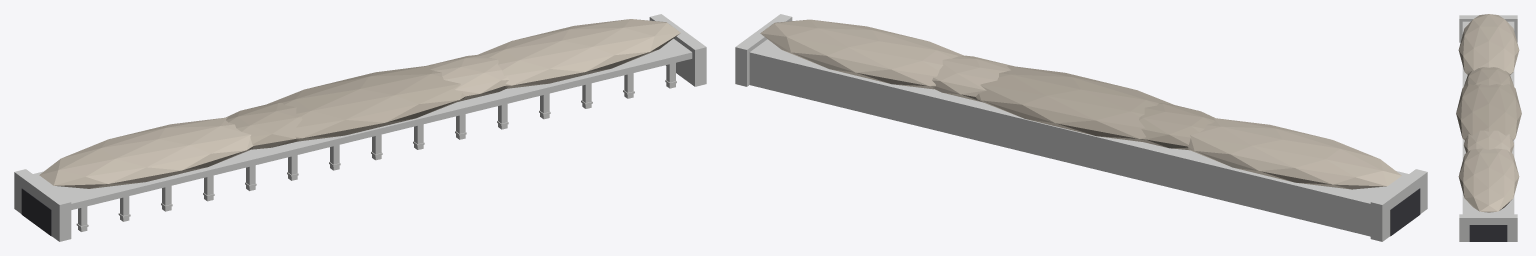
File: azure_cliff_tunnel.glb
3 views of the same model, side by side, from view 1: azimuth 30°, elevation 25°; view 2: azimuth 150°, elevation 25°; view 3: azimuth 270°, elevation 25° (orthographic). The views are drawn at different scales.
Parts seen in each view (by area): view 1: azure_cliff_tunnel; view 2: azure_cliff_tunnel; view 3: azure_cliff_tunnel.
Boxes of the visible parts, x1,y1,x2,y2 form: azure_cliff_tunnel: (14, 14, 706, 241); azure_cliff_tunnel: (735, 14, 1427, 241); azure_cliff_tunnel: (1456, 14, 1521, 241).
Bounding box in the file's own units: 190 × 16 × 26.
